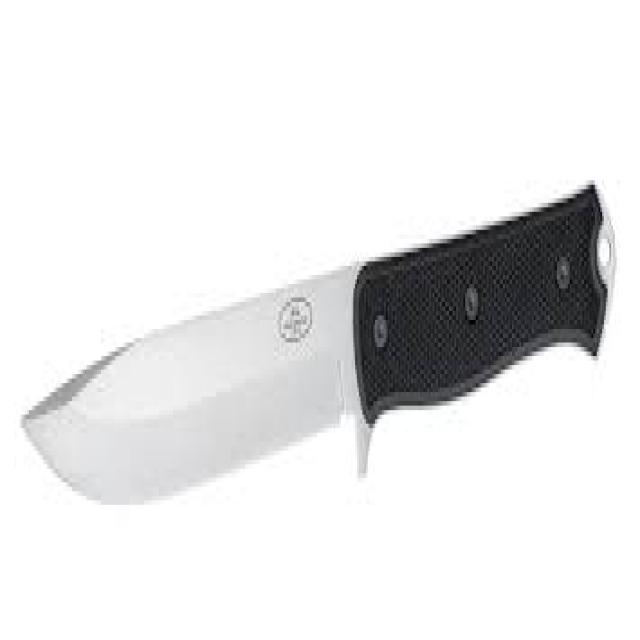knife: (23, 173, 618, 513)
